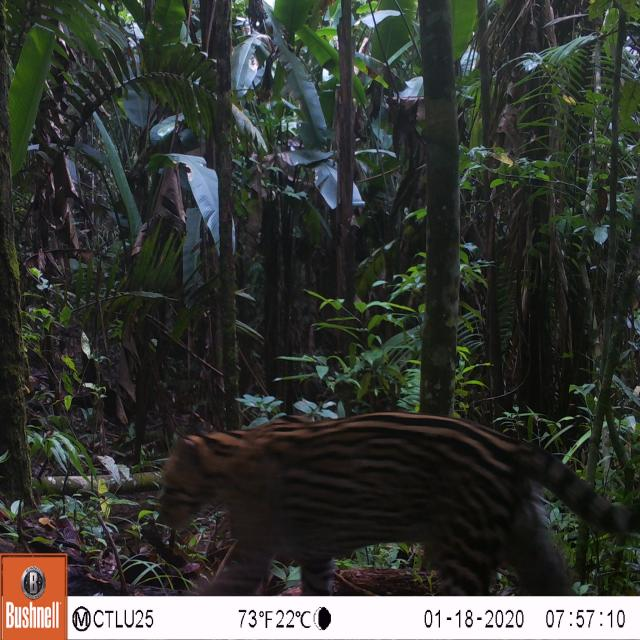Ocelote: (144, 372, 640, 594)
